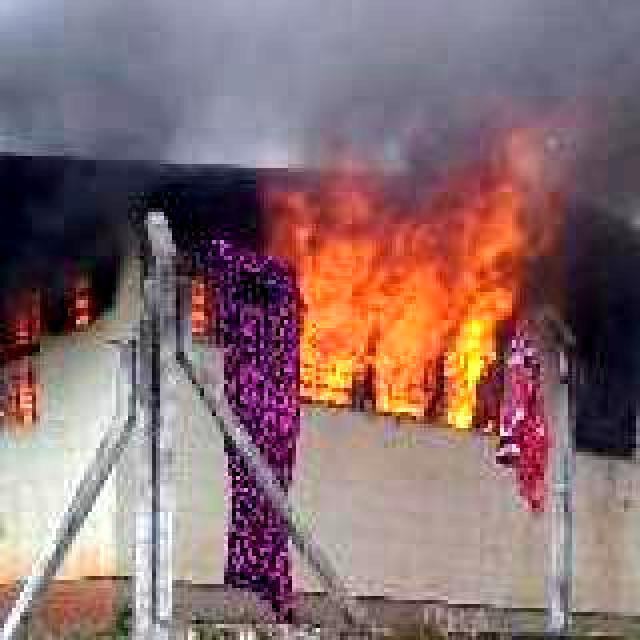smoke: (0, 0, 640, 212)
